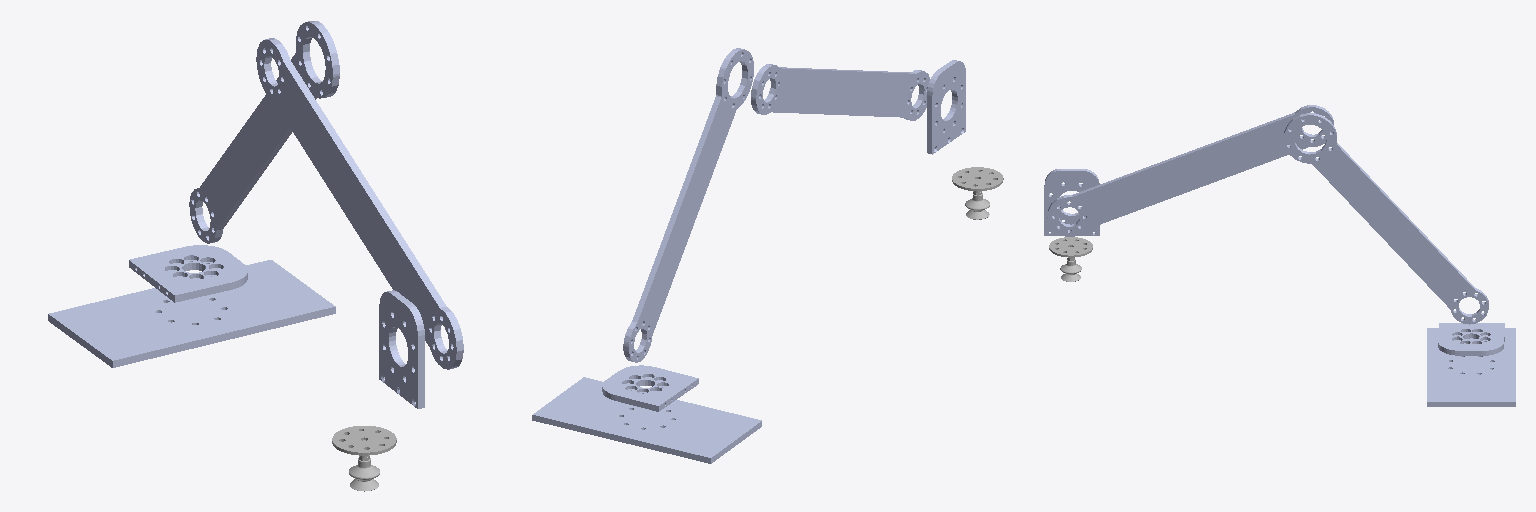
The robot description file, URDF, robot "5DOF.SLDASM":
<?xml version="1.0" encoding="utf-8"?>
<!-- This URDF was automatically created by SolidWorks to URDF Exporter! Originally created by [author] ([email redacted]) 
     Commit Version: 1.6.0-4-g7f85cfe  Build Version: 1.6.7995.38578
     For more information, please see http://wiki.ros.org/sw_urdf_exporter -->
<robot
  name="5DOF.SLDASM">
  <link
    name="base_link">
    <inertial>
      <origin
        xyz="0.1016 0.00320411469759873 0.0508"
        rpy="0 0 0" />
      <mass
        value="0.127147471977805" />
      <inertia
        ixx="0.000111831356264364"
        ixy="-2.72450714762173E-22"
        ixz="-2.7400357790819E-21"
        iyy="0.000561119002312225"
        iyz="3.57128977824887E-22"
        izz="0.000450144258992043" />
    </inertial>
    <visual>
      <origin
        xyz="0 0 0"
        rpy="0 0 0" />
      <geometry>
        <mesh
          filename="package://5DOF.SLDASM/meshes/base_link.STL" />
      </geometry>
      <material
        name="">
        <color
          rgba="0.792156862745098 0.819607843137255 0.933333333333333 1" />
      </material>
    </visual>
    <collision>
      <origin
        xyz="0 0 0"
        rpy="0 0 0" />
      <geometry>
        <mesh
          filename="package://5DOF.SLDASM/meshes/base_link.STL" />
      </geometry>
    </collision>
  </link>
  <link
    name="Link1">
    <inertial>
      <origin
        xyz="-0.00156634735052255 0.00304728813828482 -6.93889390390723E-18"
        rpy="0 0 0" />
      <mass
        value="0.0289860326782574" />
      <inertia
        ixx="1.5223794318669E-05"
        ixy="5.79839891169716E-09"
        ixz="8.73502726855997E-22"
        iyy="2.99544476674964E-05"
        iyz="1.03397576569128E-25"
        izz="1.49289111118974E-05" />
    </inertial>
    <visual>
      <origin
        xyz="0 0 0"
        rpy="0 0 0" />
      <geometry>
        <mesh
          filename="package://5DOF.SLDASM/meshes/Link1.STL" />
      </geometry>
      <material
        name="">
        <color
          rgba="0.792156862745098 0.819607843137255 0.933333333333333 1" />
      </material>
    </visual>
    <collision>
      <origin
        xyz="0 0 0"
        rpy="0 0 0" />
      <geometry>
        <mesh
          filename="package://5DOF.SLDASM/meshes/Link1.STL" />
      </geometry>
    </collision>
  </link>
  <joint
    name="Joint1"
    type="continuous">
    <origin
      xyz="0.1036 -0.05084 0.03635"
      rpy="1.5708 0 -0.025571" />
    <parent
      link="base_link" />
    <child
      link="Link1" />
    <axis
      xyz="0 1 0" />
  </joint>
  <link
    name="Link2">
    <inertial>
      <origin
        xyz="-0.14573663352729 -4.64905891561784E-16 0.00995966285328655"
        rpy="0 0 0" />
      <mass
        value="0.0727270945890701" />
      <inertia
        ixx="1.17404497835575E-05"
        ixy="-2.18110983917982E-19"
        ixz="2.94224835162662E-19"
        iyy="0.000580856987066852"
        iyz="0"
        izz="0.000592108680471815" />
    </inertial>
    <visual>
      <origin
        xyz="0 0 0"
        rpy="0 0 0" />
      <geometry>
        <mesh
          filename="package://5DOF.SLDASM/meshes/Link2.STL" />
      </geometry>
      <material
        name="">
        <color
          rgba="0.792156862745098 0.819607843137255 0.933333333333333 1" />
      </material>
    </visual>
    <collision>
      <origin
        xyz="0 0 0"
        rpy="0 0 0" />
      <geometry>
        <mesh
          filename="package://5DOF.SLDASM/meshes/Link2.STL" />
      </geometry>
    </collision>
  </link>
  <joint
    name="Joint2"
    type="continuous">
    <origin
      xyz="0.00016534 0.050763 0.0019121"
      rpy="-1.5708 0.71678 -1.5708" />
    <parent
      link="Link1" />
    <child
      link="Link2" />
    <axis
      xyz="0 0 -1" />
  </joint>
  <link
    name="Link3">
    <inertial>
      <origin
        xyz="-0.151997210961116 -0.0120375282676248 -2.22044604925031E-16"
        rpy="0 0 0" />
      <mass
        value="0.090914548707032" />
      <inertia
        ixx="1.63114517143676E-05"
        ixy="8.7151749338587E-19"
        ixz="9.38936022031392E-19"
        iyy="0.000837589789847113"
        iyz="-2.5410988417629E-20"
        izz="0.000821889321781119" />
    </inertial>
    <visual>
      <origin
        xyz="0 0 0"
        rpy="0 0 0" />
      <geometry>
        <mesh
          filename="package://5DOF.SLDASM/meshes/Link3.STL" />
      </geometry>
      <material
        name="">
        <color
          rgba="0.792156862745098 0.819607843137255 0.933333333333333 1" />
      </material>
    </visual>
    <collision>
      <origin
        xyz="0 0 0"
        rpy="0 0 0" />
      <geometry>
        <mesh
          filename="package://5DOF.SLDASM/meshes/Link3.STL" />
      </geometry>
    </collision>
  </link>
  <joint
    name="Joint3"
    type="continuous">
    <origin
      xyz="-0.2774 0 -0.015403"
      rpy="1.5708 0 1.2521" />
    <parent
      link="Link2" />
    <child
      link="Link3" />
    <axis
      xyz="0 1 0" />
  </joint>
  <link
    name="Link4">
    <inertial>
      <origin
        xyz="1.11022302462516E-16 0.00317956626937047 0.00110175974049123"
        rpy="0 0 0" />
      <mass
        value="0.0257561871549524" />
      <inertia
        ixx="1.65551442883999E-05"
        ixy="4.3754545681605E-20"
        ixz="-1.0351196013818E-21"
        iyy="2.60799221135831E-05"
        iyz="-4.35135151210531E-09"
        izz="9.69751079128943E-06" />
    </inertial>
    <visual>
      <origin
        xyz="0 0 0"
        rpy="0 0 0" />
      <geometry>
        <mesh
          filename="package://5DOF.SLDASM/meshes/Link4.STL" />
      </geometry>
      <material
        name="">
        <color
          rgba="0.792156862745098 0.819607843137255 0.933333333333333 1" />
      </material>
    </visual>
    <collision>
      <origin
        xyz="0 0 0"
        rpy="0 0 0" />
      <geometry>
        <mesh
          filename="package://5DOF.SLDASM/meshes/Link4.STL" />
      </geometry>
    </collision>
  </link>
  <joint
    name="Joint4"
    type="continuous">
    <origin
      xyz="-0.30216 -0.052613 0.00078978"
      rpy="0 -0.3981 0" />
    <parent
      link="Link3" />
    <child
      link="Link4" />
    <axis
      xyz="0 1 0" />
  </joint>
  <link
    name="Link5">
    <inertial>
      <origin
        xyz="-1.0178854148446E-08 4.93707069393334E-08 0.00894882267425838"
        rpy="0 0 0" />
      <mass
        value="0.00713826707604841" />
      <inertia
        ixx="9.1234372827186E-07"
        ixy="2.8081665507336E-13"
        ixz="-2.67286641151399E-12"
        iyy="9.12343403576146E-07"
        iyz="2.09703351846591E-12"
        izz="1.66070034774805E-06" />
    </inertial>
    <visual>
      <origin
        xyz="0 0 0"
        rpy="0 0 0" />
      <geometry>
        <mesh
          filename="package://5DOF.SLDASM/meshes/Link5.STL" />
      </geometry>
      <material
        name="">
        <color
          rgba="0.752941176470588 0.752941176470588 0.752941176470588 1" />
      </material>
    </visual>
    <collision>
      <origin
        xyz="0 0 0"
        rpy="0 0 0" />
      <geometry>
        <mesh
          filename="package://5DOF.SLDASM/meshes/Link5.STL" />
      </geometry>
    </collision>
  </link>
  <joint
    name="Joint5"
    type="continuous">
    <origin
      xyz="-0.0019997 -0.031718 0.072325"
      rpy="0 0 -2.8294" />
    <parent
      link="Link4" />
    <child
      link="Link5" />
    <axis
      xyz="0 0 -1" />
  </joint>
</robot>

--- Facts derived from the render (not from the file) ---
Views: 3 orthographic renders of the robot side by side, from view 1: azimuth 30°, elevation 25°; view 2: azimuth 150°, elevation 25°; view 3: azimuth 270°, elevation 25°.
Robot: 5DOF.SLDASM — 6 links, 5 joints (5 continuous); root link base_link; default pose: all joints at 0.
Visible links, largest first — view 1: base_link, Link3, Link2, Link1, Link4, Link5; view 2: base_link, Link2, Link3, Link1, Link4, Link5; view 3: Link3, Link2, base_link, Link1, Link4, Link5.
Link boxes in pixels (bbox=[...]): base_link: bbox=[48, 260, 335, 367]; Link3: bbox=[256, 38, 463, 369]; Link2: bbox=[189, 21, 339, 243]; Link1: bbox=[129, 245, 247, 302]; Link4: bbox=[379, 290, 424, 408]; Link5: bbox=[332, 426, 396, 491]; base_link: bbox=[532, 377, 761, 463]; Link2: bbox=[623, 48, 753, 362]; Link3: bbox=[751, 64, 929, 120]; Link1: bbox=[602, 365, 698, 411]; Link4: bbox=[927, 60, 965, 154]; Link5: bbox=[952, 167, 1003, 219]; Link3: bbox=[1047, 105, 1333, 236]; Link2: bbox=[1284, 113, 1488, 324]; base_link: bbox=[1427, 328, 1515, 406]; Link1: bbox=[1438, 323, 1504, 355]; Link4: bbox=[1044, 169, 1099, 235]; Link5: bbox=[1049, 237, 1092, 281].
Size in the robot's own frame: 0.2364 by 0.5432 by 0.3288 metres.
Meshes: 6 distinct files referenced, 6 mesh visuals loaded (6 binary STL).